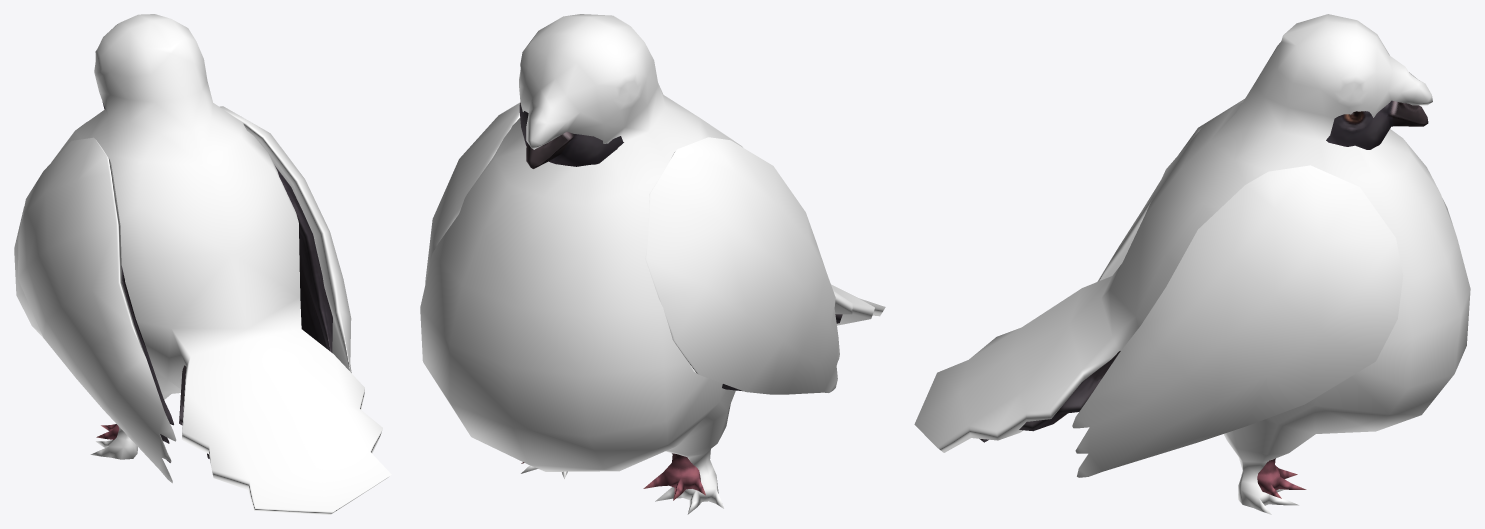
The model's file is StreetStylePigeon.glb.
3 renders of one model, left to right at view 1: azimuth 30°, elevation 25°; view 2: azimuth 150°, elevation 25°; view 3: azimuth 270°, elevation 25°, orthographic. The views are drawn at different scales.
Visible parts, largest first — view 1: PidgeonHologram, Pigeon; view 2: PidgeonHologram, Pigeon; view 3: PidgeonHologram, Pigeon.
Part boxes in pixels (<box>): PidgeonHologram: <box>14,14,391,514</box>; Pigeon: <box>96,102,332,462</box>; PidgeonHologram: <box>420,14,885,514</box>; Pigeon: <box>519,103,842,500</box>; PidgeonHologram: <box>914,14,1470,514</box>; Pigeon: <box>979,100,1428,498</box>.
Bounding box in the file's own units: 0.2012 × 0.2894 × 0.3266.
2 materials, 1 textured.
